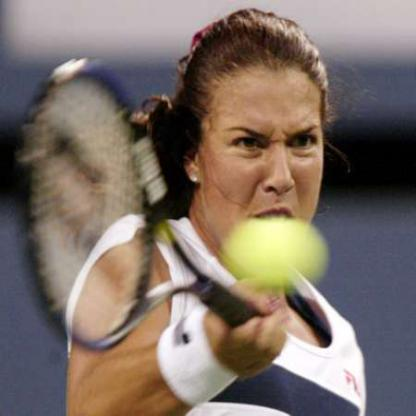face: (197, 20, 329, 274)
